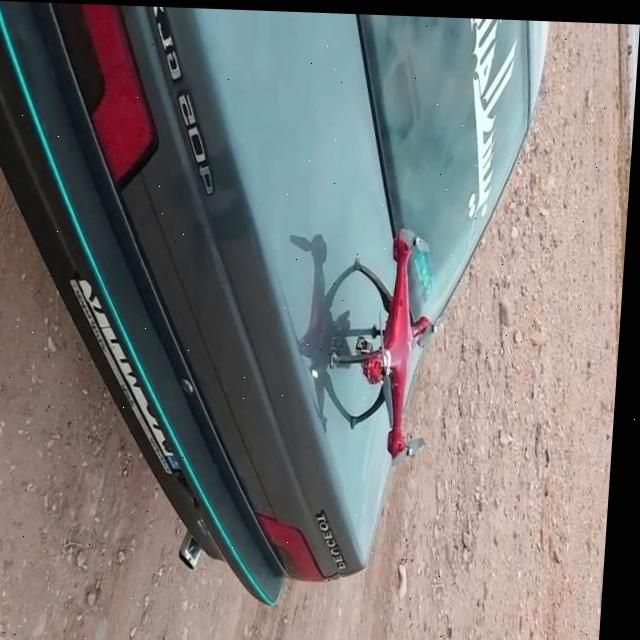drone: (332, 222, 453, 466)
